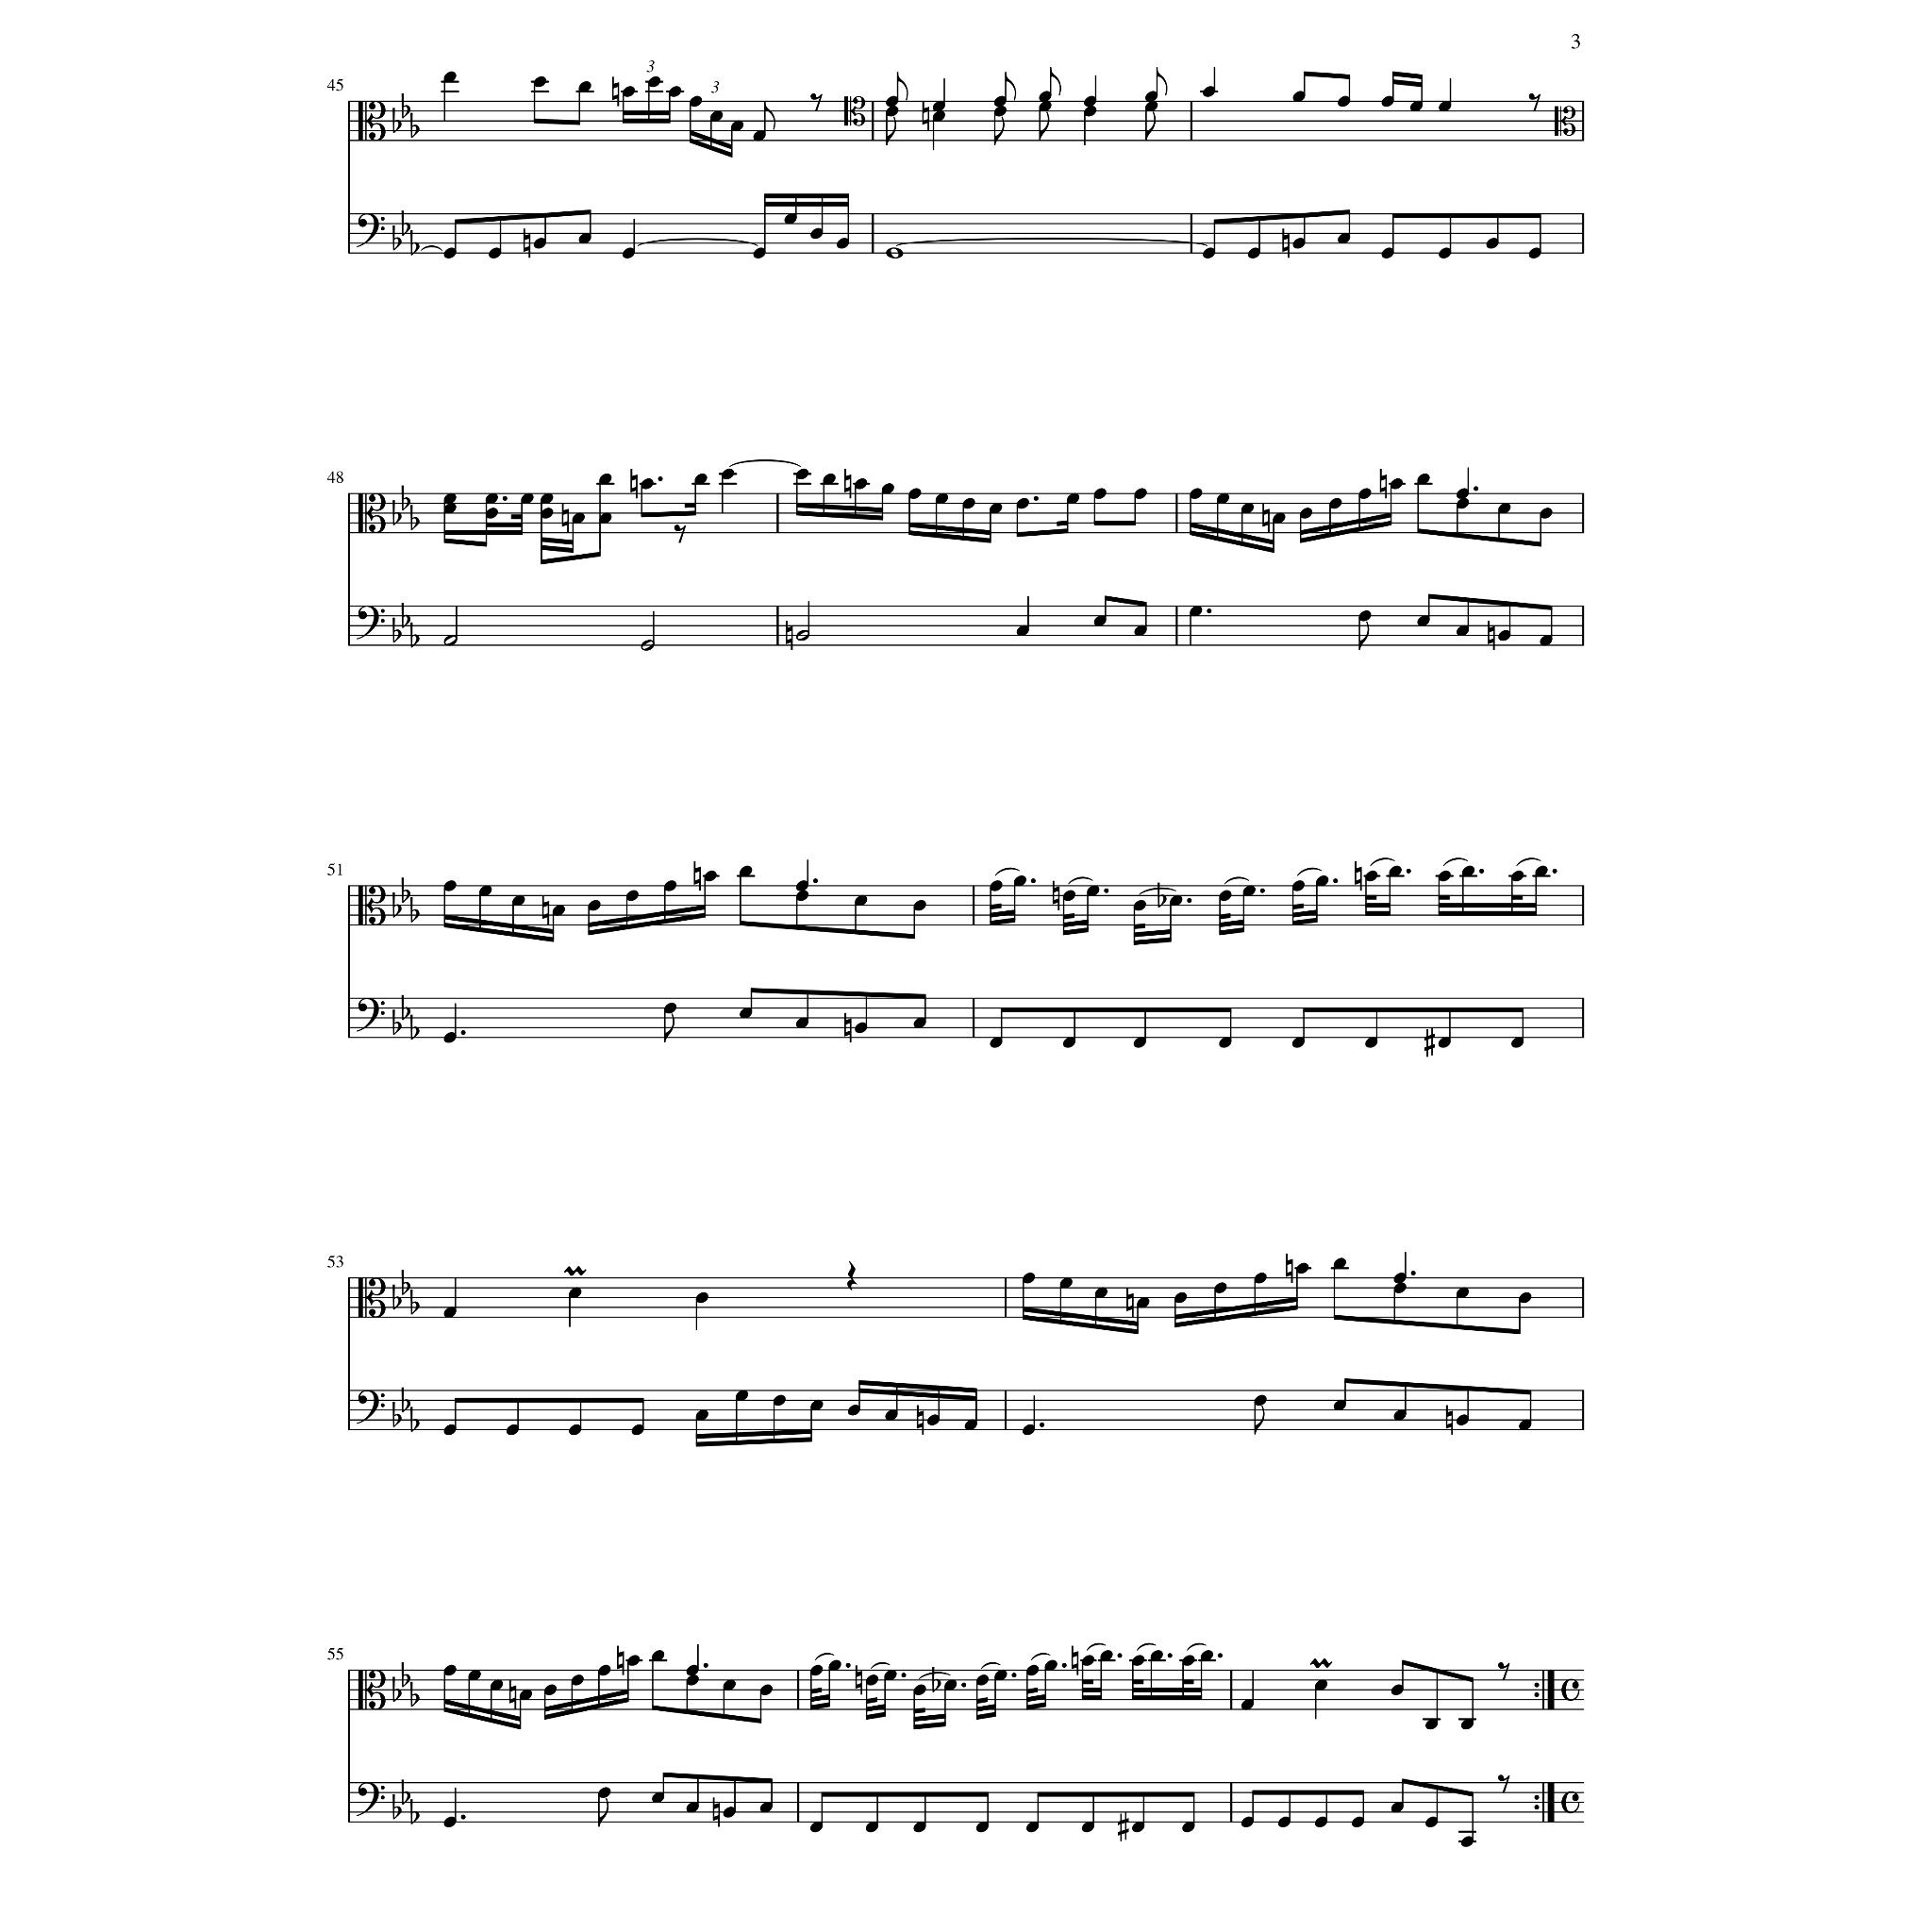fClef: (356, 605, 384, 640), (356, 998, 384, 1033), (356, 1782, 384, 1817), (356, 214, 384, 248), (356, 1391, 384, 1424)
flag8thDown: (1039, 111, 1049, 142), (1359, 621, 1369, 651), (1254, 1405, 1265, 1435), (598, 1798, 609, 1828), (994, 117, 1005, 145), (886, 117, 897, 145), (665, 1014, 676, 1042), (1146, 111, 1155, 142)
flag8thUp: (1049, 67, 1062, 96), (1157, 67, 1168, 96), (1005, 73, 1016, 101), (897, 73, 908, 101), (764, 103, 775, 131)
noteheadBlack: (1292, 237, 1306, 249), (1292, 90, 1306, 103), (1039, 90, 1053, 103), (1039, 101, 1053, 113), (993, 96, 1007, 108), (1145, 90, 1159, 103), (1145, 101, 1159, 113), (1338, 96, 1352, 108), (1438, 248, 1453, 260), (1438, 101, 1453, 113), (621, 248, 635, 260), (688, 96, 702, 108), (442, 248, 456, 260), (533, 237, 547, 249), (533, 76, 547, 88), (885, 96, 899, 108), (835, 237, 849, 249), (784, 212, 798, 225), (752, 248, 766, 260), (1299, 508, 1313, 520), (1189, 605, 1203, 617), (1189, 488, 1203, 501), (1539, 508, 1553, 520), (1389, 478, 1403, 490), (640, 478, 655, 490), (442, 502, 456, 515), (485, 508, 499, 520), (908, 488, 922, 501), (989, 502, 1003, 515), (1242, 885, 1256, 897), (1086, 885, 1100, 897), (1062, 890, 1076, 902), (1132, 899, 1146, 911), (1511, 870, 1525, 883), (1461, 865, 1476, 878), (587, 899, 602, 911), (738, 1007, 752, 1019), (442, 1031, 456, 1044), (442, 879, 456, 892), (478, 885, 492, 897), (738, 865, 752, 878), (989, 879, 1003, 892), (913, 899, 927, 911), (794, 890, 809, 902), (794, 879, 809, 892), (855, 1023, 869, 1035), (1214, 1281, 1228, 1293), (1332, 1399, 1346, 1412), (1332, 1256, 1346, 1269), (1518, 1419, 1532, 1431), (1518, 1292, 1532, 1304), (734, 1389, 748, 1401), (442, 1424, 456, 1437), (442, 1306, 456, 1318), (1182, 1821, 1196, 1833), (1182, 1654, 1196, 1667), (975, 1821, 989, 1833), (1240, 1815, 1254, 1828), (1240, 1698, 1254, 1711), (1081, 1821, 1095, 1833), (1081, 1654, 1095, 1667), (1352, 1815, 1366, 1828), (626, 1654, 640, 1667), (722, 1679, 736, 1691), (975, 1674, 989, 1686), (442, 1815, 456, 1828), (442, 1665, 456, 1677), (943, 1679, 957, 1691), (913, 1821, 927, 1833), (809, 1821, 823, 1833), (809, 1665, 823, 1677), (759, 1801, 773, 1813), (1203, 248, 1215, 260), (1247, 248, 1260, 260), (1085, 96, 1097, 108), (1529, 248, 1541, 260), (1486, 237, 1499, 249), (1382, 248, 1394, 260), (1382, 96, 1394, 108), (1410, 101, 1422, 113), (648, 76, 660, 88), (488, 248, 501, 260), (932, 110, 945, 122), (932, 101, 945, 113), (709, 110, 722, 122), (731, 120, 743, 133), (1242, 502, 1254, 515), (1093, 488, 1106, 501), (1134, 488, 1146, 501), (1499, 630, 1511, 642), (1499, 502, 1511, 515), (1359, 488, 1371, 501), (1456, 488, 1468, 501), (540, 508, 552, 520), (881, 483, 893, 495), (855, 478, 867, 490), (1219, 890, 1231, 902), (1366, 870, 1378, 883), (1292, 879, 1304, 892), (1536, 865, 1548, 878), (1438, 870, 1451, 883), (1389, 865, 1401, 878), (663, 879, 676, 892), (626, 890, 639, 902), (552, 904, 564, 916), (704, 870, 717, 883), (1254, 1272, 1267, 1284), (1175, 1292, 1187, 1304), (1138, 1297, 1150, 1309), (1394, 1281, 1407, 1293), (1394, 1272, 1407, 1284), (1456, 1414, 1468, 1426), (632, 1424, 644, 1437), (568, 1424, 580, 1437), (695, 1292, 708, 1304), (506, 1424, 518, 1437), (964, 1419, 977, 1431), (927, 1414, 939, 1426), (1023, 1424, 1035, 1437), (1023, 1272, 1035, 1284), (847, 1405, 860, 1417), (810, 1399, 823, 1412), (1132, 1821, 1145, 1833), (1132, 1654, 1145, 1667), (1026, 1821, 1039, 1833), (1026, 1665, 1039, 1677), (1315, 1815, 1327, 1828), (1315, 1679, 1327, 1691), (1277, 1815, 1290, 1828), (1461, 1718, 1474, 1730), (1426, 1815, 1438, 1828), (1426, 1718, 1438, 1730), (1391, 1801, 1403, 1813), (598, 1787, 610, 1799), (598, 1665, 610, 1677), (571, 1674, 584, 1686), (686, 1801, 699, 1813), (686, 1674, 699, 1686), (686, 1665, 699, 1677), (490, 1679, 502, 1691), (865, 1674, 878, 1686), (865, 1821, 878, 1833), (993, 106, 1007, 117), (1338, 234, 1352, 244), (621, 87, 635, 97), (442, 73, 456, 83), (885, 106, 899, 117), (752, 131, 766, 142), (809, 228, 823, 239), (1215, 494, 1230, 504), (1329, 499, 1343, 510), (1272, 513, 1286, 524), (1016, 626, 1030, 637), (1016, 499, 1030, 510), (1539, 635, 1553, 646), (442, 494, 456, 504), (571, 513, 586, 524), (485, 494, 499, 504), (694, 474, 708, 485), (934, 494, 948, 504), (794, 469, 809, 479), (720, 469, 734, 479), (1062, 1037, 1076, 1047), (1169, 895, 1184, 906), (1132, 1037, 1146, 1047), (1511, 1037, 1525, 1047), (989, 1037, 1003, 1047), (913, 1017, 927, 1028), (794, 1017, 809, 1028), (855, 895, 869, 906), (885, 1410, 899, 1421), (1200, 1651, 1214, 1661), (1044, 1660, 1058, 1670), (651, 1792, 665, 1803), (651, 1651, 665, 1661), (722, 1806, 736, 1817), (543, 1684, 557, 1695), (518, 1690, 533, 1700), (467, 1670, 481, 1681), (828, 1660, 842, 1670), (913, 1684, 927, 1695), (759, 1684, 773, 1695), (1203, 87, 1215, 97), (1085, 106, 1097, 117), (579, 234, 591, 244), (579, 81, 591, 92), (669, 87, 681, 97), (1093, 616, 1106, 626), (1067, 494, 1079, 504), (1134, 626, 1146, 637), (1417, 616, 1430, 626), (1417, 474, 1430, 485), (1359, 610, 1371, 621), (1456, 626, 1468, 637), (1456, 499, 1468, 510), (600, 513, 612, 524), (600, 474, 612, 485), (540, 494, 552, 504), (520, 494, 533, 504), (962, 499, 975, 510), (823, 474, 835, 485), (1219, 1037, 1231, 1047), (1366, 1037, 1378, 1047), (1316, 876, 1329, 886), (1292, 1037, 1304, 1047), (1438, 1037, 1451, 1047), (663, 1003, 676, 1014), (511, 895, 524, 906), (1014, 876, 1026, 886), (1254, 1396, 1267, 1407), (1297, 1263, 1309, 1274), (1060, 1277, 1072, 1288), (1095, 1288, 1108, 1299), (1394, 1410, 1407, 1421), (1456, 1288, 1468, 1299), (568, 1288, 580, 1299), (695, 1410, 708, 1421), (773, 1396, 786, 1407), (1150, 1651, 1162, 1661), (994, 1670, 1007, 1681), (1100, 1651, 1113, 1661), (1461, 1836, 1474, 1847), (1391, 1684, 1403, 1695), (885, 1670, 897, 1681)
noteheadHalf: (796, 630, 810, 642), (442, 635, 456, 646), (640, 640, 655, 651)
noteheadWhole: (885, 248, 904, 260)
rest8th: (1497, 1775, 1511, 1794), (809, 94, 823, 111), (1497, 1663, 1511, 1681), (674, 524, 686, 543), (1529, 94, 1541, 111)
restQuarter: (847, 1260, 856, 1290)
